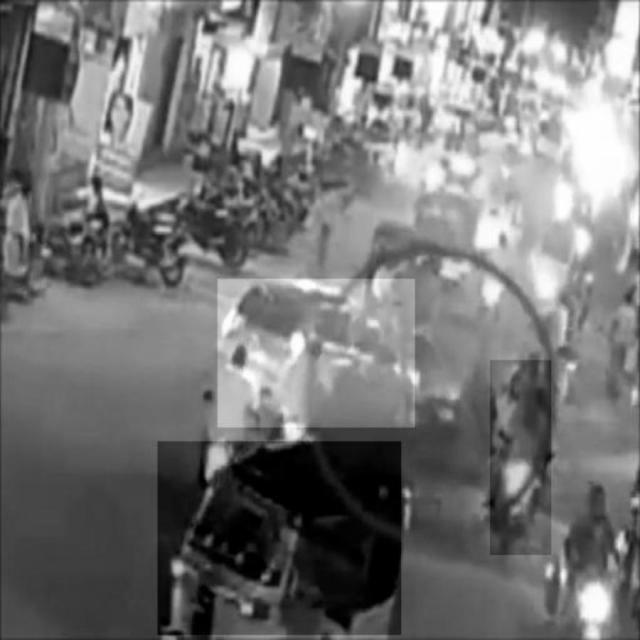vehicle: (158, 442, 401, 636), (219, 279, 416, 427), (490, 360, 551, 555)
